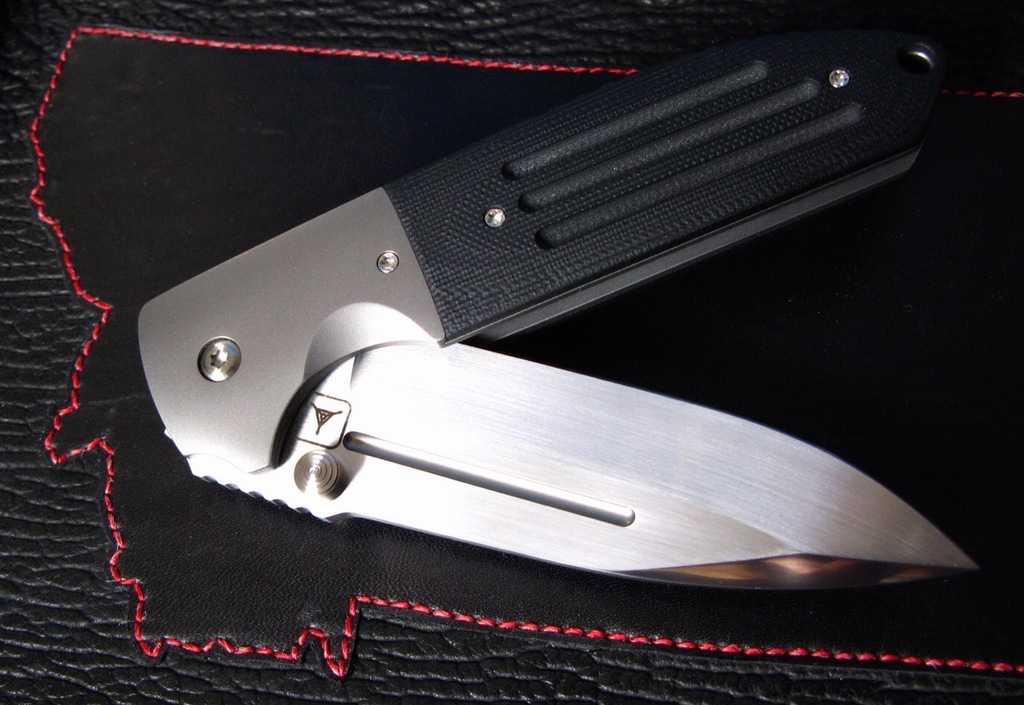knife: (136, 26, 982, 591)
